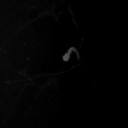fish: (62, 46, 80, 62)
